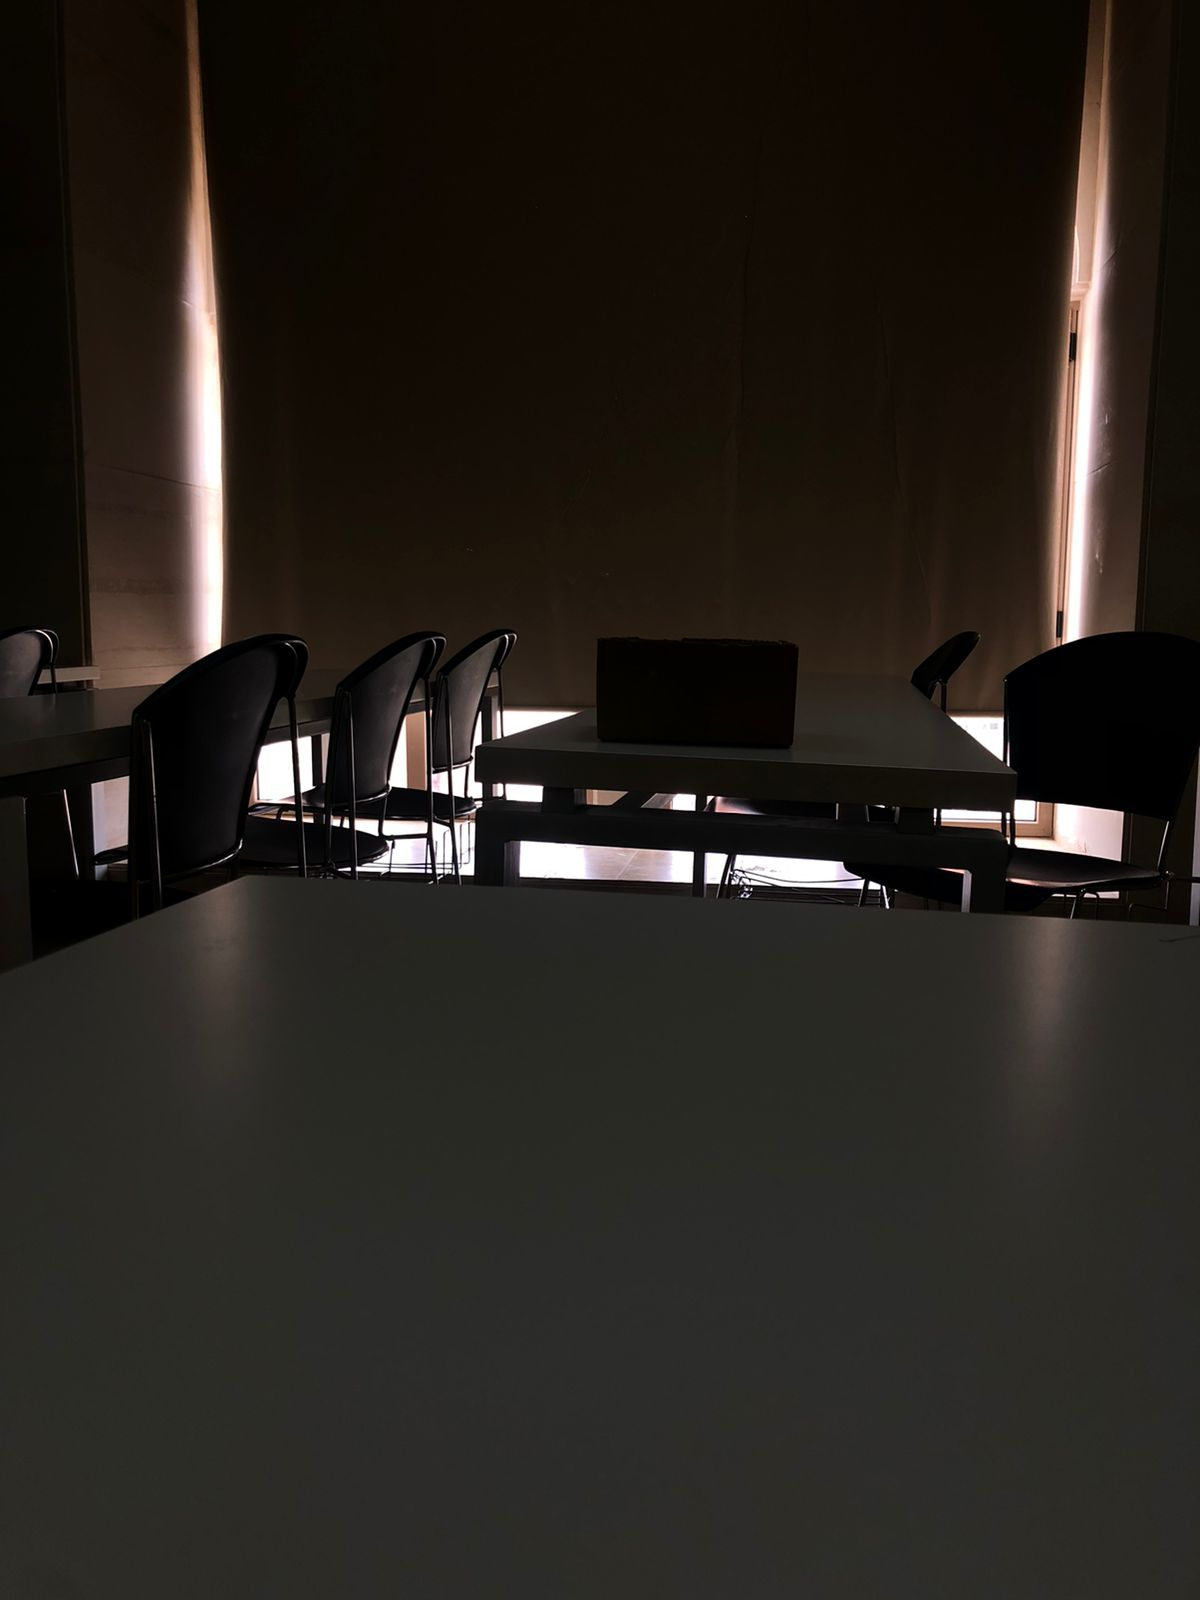CBox: (592, 626, 814, 751)
